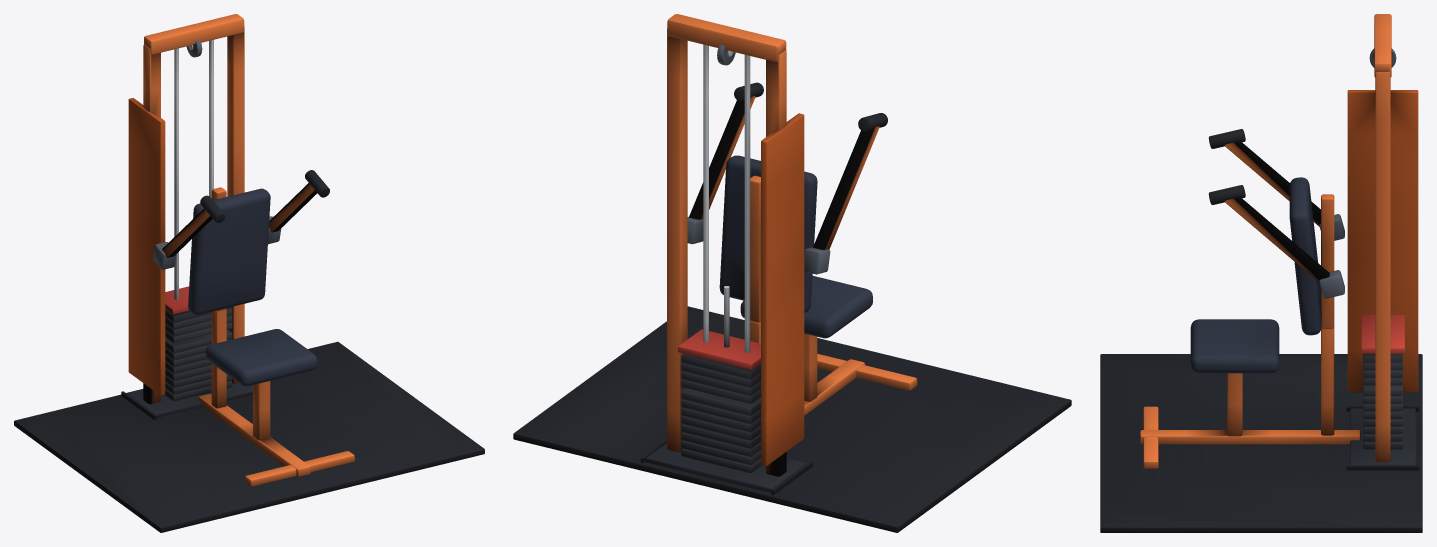
The model's file is m_shoulder.glb.
The picture shows the model from 3 angles, left to right: view 1: azimuth 30°, elevation 25°; view 2: azimuth 150°, elevation 25°; view 3: azimuth 270°, elevation 25°; orthographic projection. The views are drawn at different scales.
Parts seen in each view (by area): view 1: static, o17, o40, o44; view 2: static, o17, o40, o44; view 3: static, o44, o40, o17.
Boxes of the visible parts, x1,y1,x2,y2 form: static: (14,14,484,532); o17: (165,286,232,342); o40: (153,195,225,269); o44: (268,170,329,244); static: (513,14,1071,532); o17: (678,286,760,403); o40: (804,113,887,274); o44: (687,82,763,244); static: (1100,14,1422,532); o44: (1208,185,1344,298); o40: (1208,129,1344,240); o17: (1361,315,1404,385).
Bounding box in the file's own units: 1.86 × 2.05 × 1.46.
